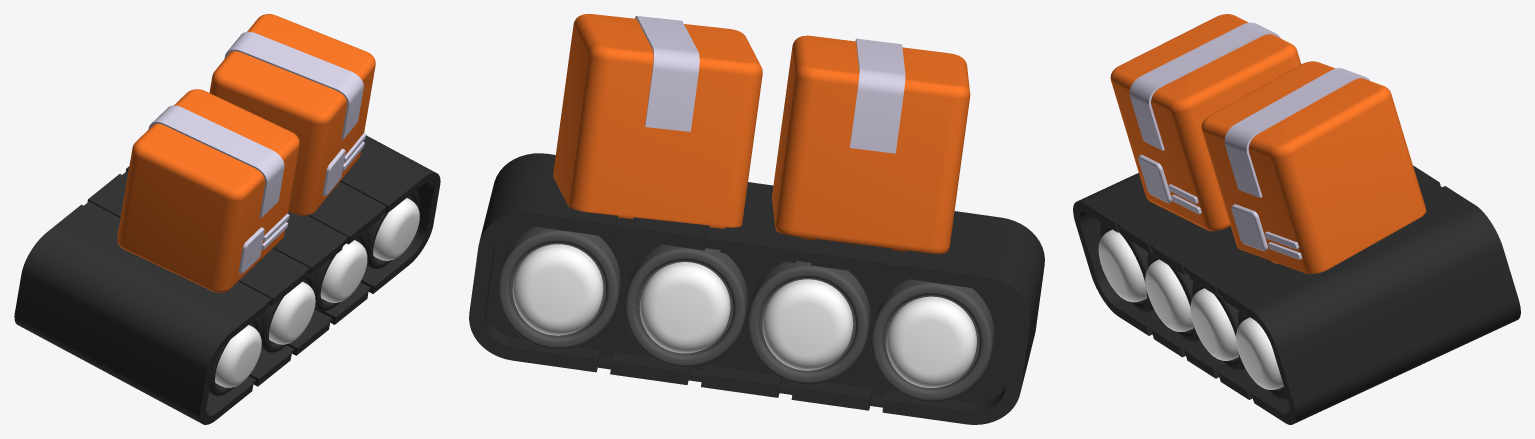
Rendered from Objects_machine.glb.
3 renders of one model, left to right at view 1: azimuth 30°, elevation 25°; view 2: azimuth 150°, elevation 25°; view 3: azimuth 270°, elevation 25°, orthographic. The views are drawn at different scales.
Parts seen in each view (by area): view 1: Cube.084, Cube.094, Cube.089, Cube.093, Cube.088, Cylinder.009, Cylinder.016, Cylinder.010, Cylinder.007, Cube.092, Cube.087; view 2: Cube.084, Cube.089, Cube.094, Cylinder.025, Cylinder.026, Cylinder.017, Cylinder.030, Cube.088, Cube.093; view 3: Cube.084, Cube.089, Cube.094, Cube.088, Cube.093, Cylinder.007, Cylinder.010, Cylinder.009, Cylinder.016, Cube.087, Cube.092.
Part boxes in pixels (<box>): Cube.084: <box>14,135,440,424</box>; Cube.094: <box>117,89,299,292</box>; Cube.089: <box>209,14,375,215</box>; Cube.093: <box>148,105,284,217</box>; Cube.088: <box>224,31,363,139</box>; Cylinder.009: <box>258,274,315,352</box>; Cylinder.016: <box>364,190,419,268</box>; Cylinder.010: <box>312,232,367,310</box>; Cylinder.007: <box>209,317,261,395</box>; Cube.092: <box>238,227,264,273</box>; Cube.087: <box>322,148,345,196</box>; Cube.084: <box>469,153,1044,424</box>; Cube.089: <box>553,14,762,228</box>; Cube.094: <box>772,35,970,253</box>; Cylinder.025: <box>624,244,747,367</box>; Cylinder.026: <box>747,261,870,384</box>; Cylinder.017: <box>497,227,620,349</box>; Cylinder.030: <box>871,279,994,402</box>; Cube.088: <box>634,16,699,131</box>; Cube.093: <box>850,38,905,153</box>; Cube.084: <box>1073,165,1520,424</box>; Cube.089: <box>1201,61,1426,274</box>; Cube.094: <box>1110,14,1300,231</box>; Cube.088: <box>1224,68,1369,197</box>; Cube.093: <box>1129,22,1280,150</box>; Cylinder.007: <box>1098,223,1153,311</box>; Cylinder.010: <box>1190,281,1245,370</box>; Cylinder.009: <box>1145,252,1199,341</box>; Cylinder.016: <box>1236,310,1287,399</box>; Cube.087: <box>1231,204,1268,251</box>; Cube.092: <box>1138,155,1172,203</box>.
Bounding box in the file's own units: 6.1 × 4 × 5.05.
